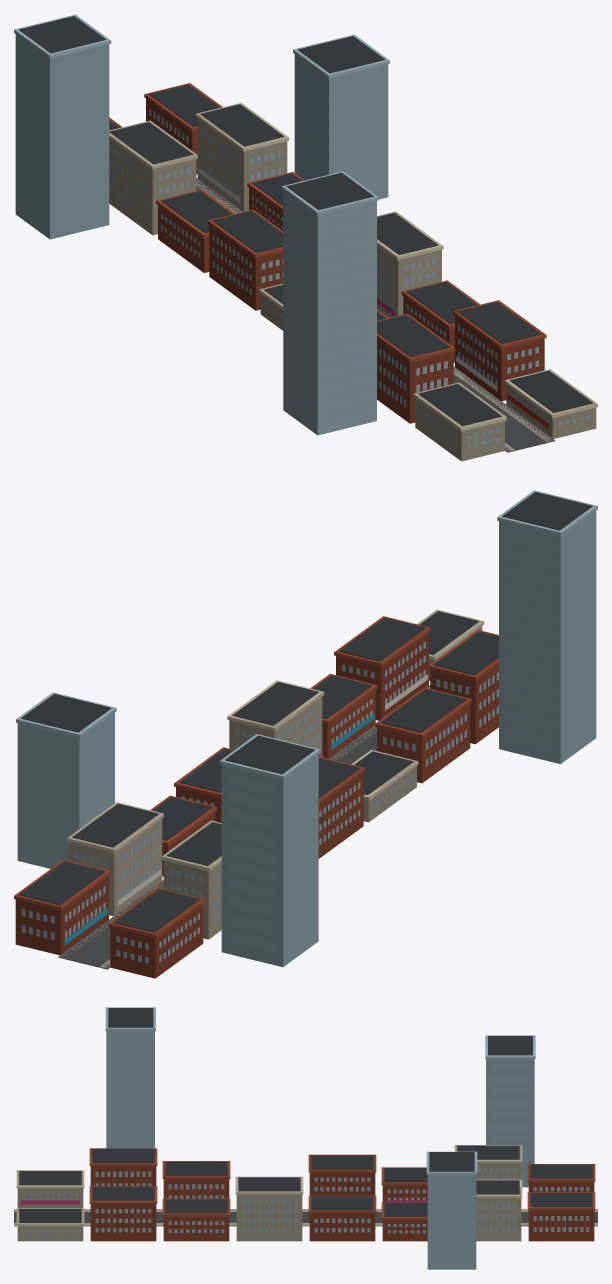
3 renders of one model, top to bottom at view 1: azimuth 30°, elevation 25°; view 2: azimuth 150°, elevation 25°; view 3: azimuth 270°, elevation 25°, orthographic. The views are drawn at different scales.
Visible parts, largest first — view 1: flushing-main-street-lod1; view 2: flushing-main-street-lod1; view 3: flushing-main-street-lod1.
Boxes of the visible parts, <box> form: flushing-main-street-lod1: <box>14,14,597,461</box>; flushing-main-street-lod1: <box>14,490,597,978</box>; flushing-main-street-lod1: <box>14,1007,597,1269</box>.
Size of the model in its own units: 151 by 108 by 360.
